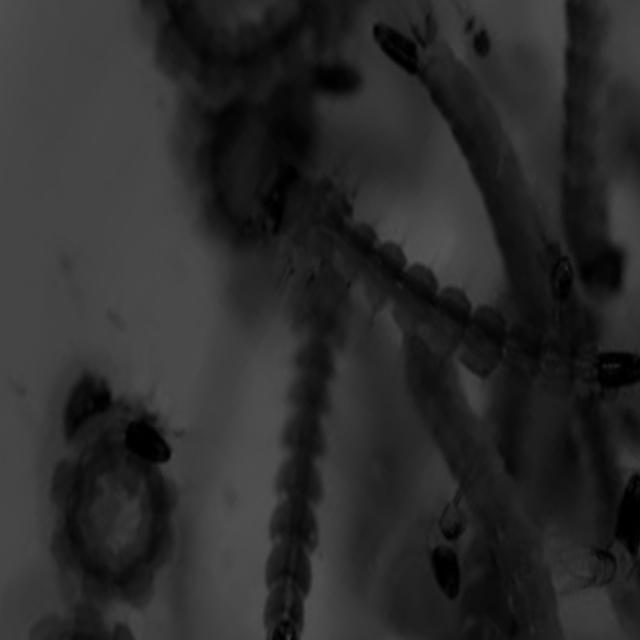larvas: (248, 165, 640, 438), (391, 341, 571, 640), (373, 9, 564, 288), (263, 288, 340, 640), (57, 386, 168, 591), (560, 0, 630, 270), (146, 1, 343, 64), (563, 477, 640, 575), (210, 89, 261, 235), (33, 597, 128, 640), (433, 500, 461, 593)
